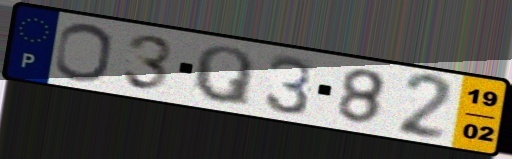2: (394, 70, 456, 143)
3: (265, 53, 314, 118), (122, 34, 176, 92)
8: (334, 67, 390, 126)
O: (51, 21, 115, 85)
Q: (191, 44, 257, 110)
